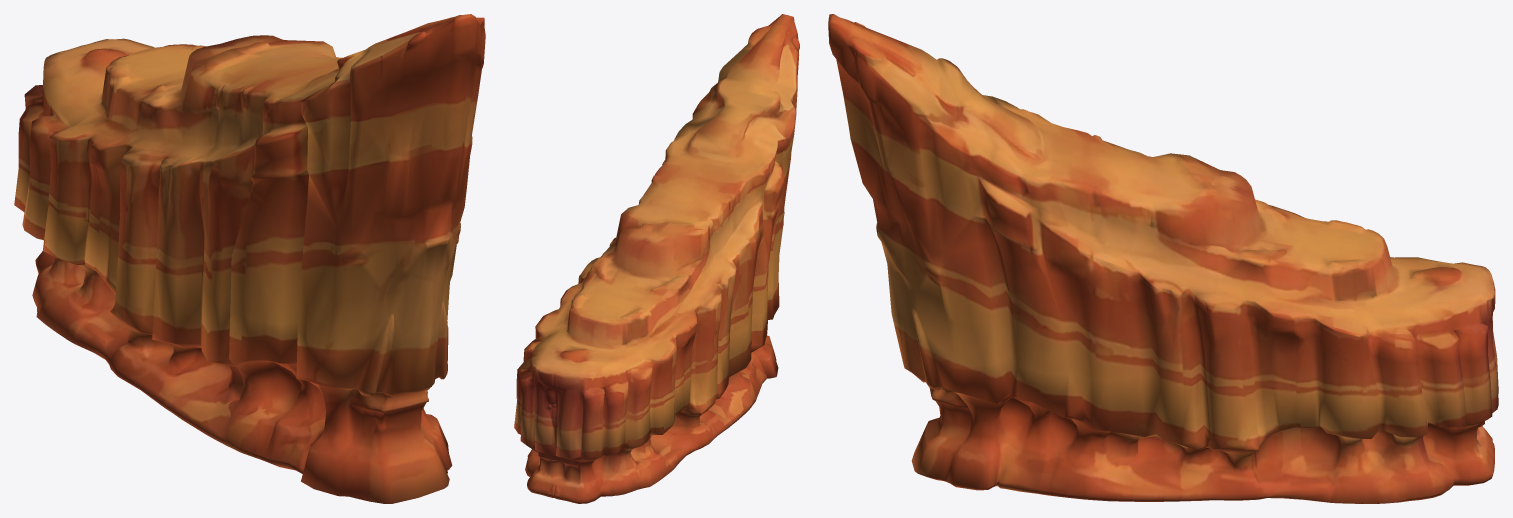
Rendered from SM_Tripo_DesertYardangFleet.glb.
The picture shows the model from 3 angles, left to right: view 1: azimuth 30°, elevation 25°; view 2: azimuth 150°, elevation 25°; view 3: azimuth 270°, elevation 25°; orthographic projection. The views are drawn at different scales.
Visible parts, largest first — view 1: SM_Tripo_DesertYardangFleet_LOD0; view 2: SM_Tripo_DesertYardangFleet_LOD0; view 3: SM_Tripo_DesertYardangFleet_LOD0.
Part boxes in pixels (x1=…): SM_Tripo_DesertYardangFleet_LOD0: x1=14, y1=14, x2=485, y2=503; SM_Tripo_DesertYardangFleet_LOD0: x1=514, y1=14, x2=799, y2=503; SM_Tripo_DesertYardangFleet_LOD0: x1=828, y1=14, x2=1498, y2=503.
Size of the model in its own units: 4.49 by 10 by 13.49.
Materials: 1 (1 with a texture image).
